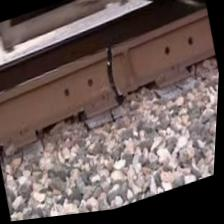person: (68, 32, 156, 123)
